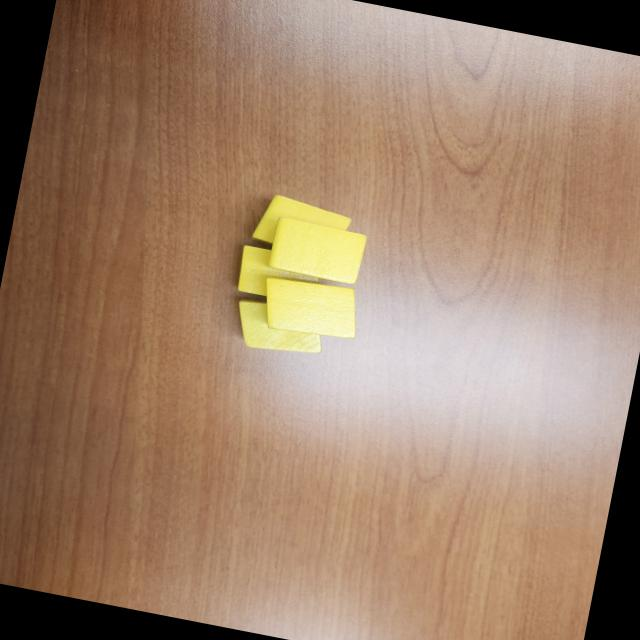yellow: (257, 272, 366, 346), (265, 215, 370, 288), (249, 191, 355, 259), (228, 294, 330, 363), (234, 244, 326, 308)
